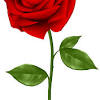rose: (3, 1, 83, 39)
